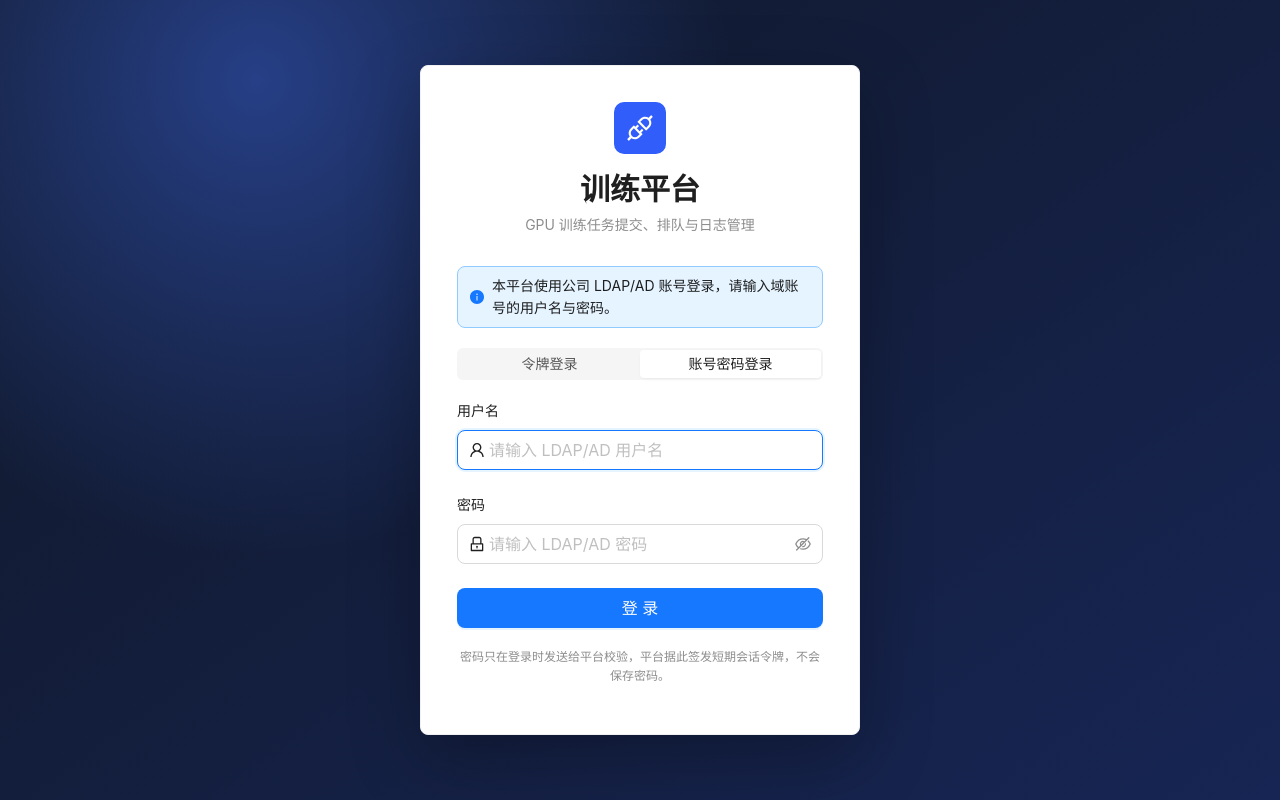
Test: LoginPage › ldap 模式下仍可手动切换到访问令牌登录
Expected: the field labelled "用户名" is shown, [489,438,811,462]
Click the text "令牌登录".
click(550, 364)  # box [522,355,578,372]
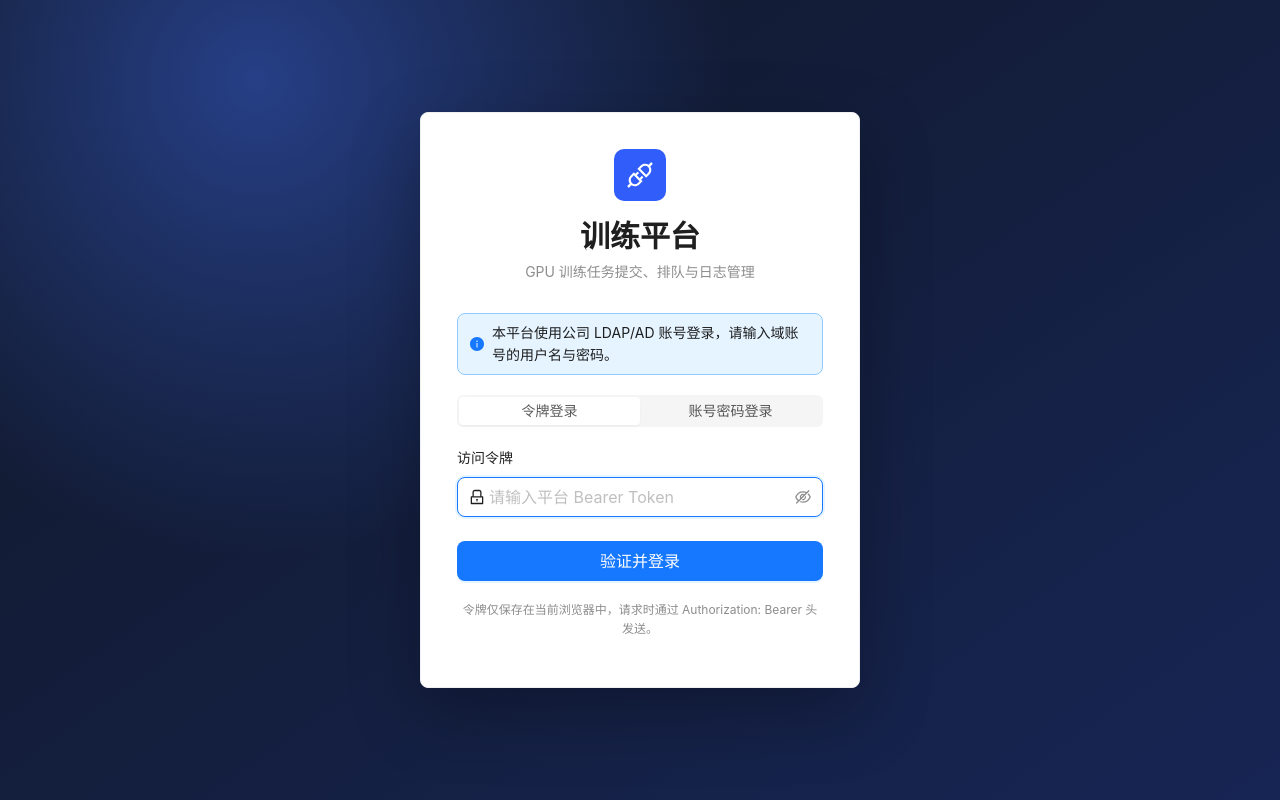
Result: the password field labelled "访问令牌" is shown at [489,485,791,509]
